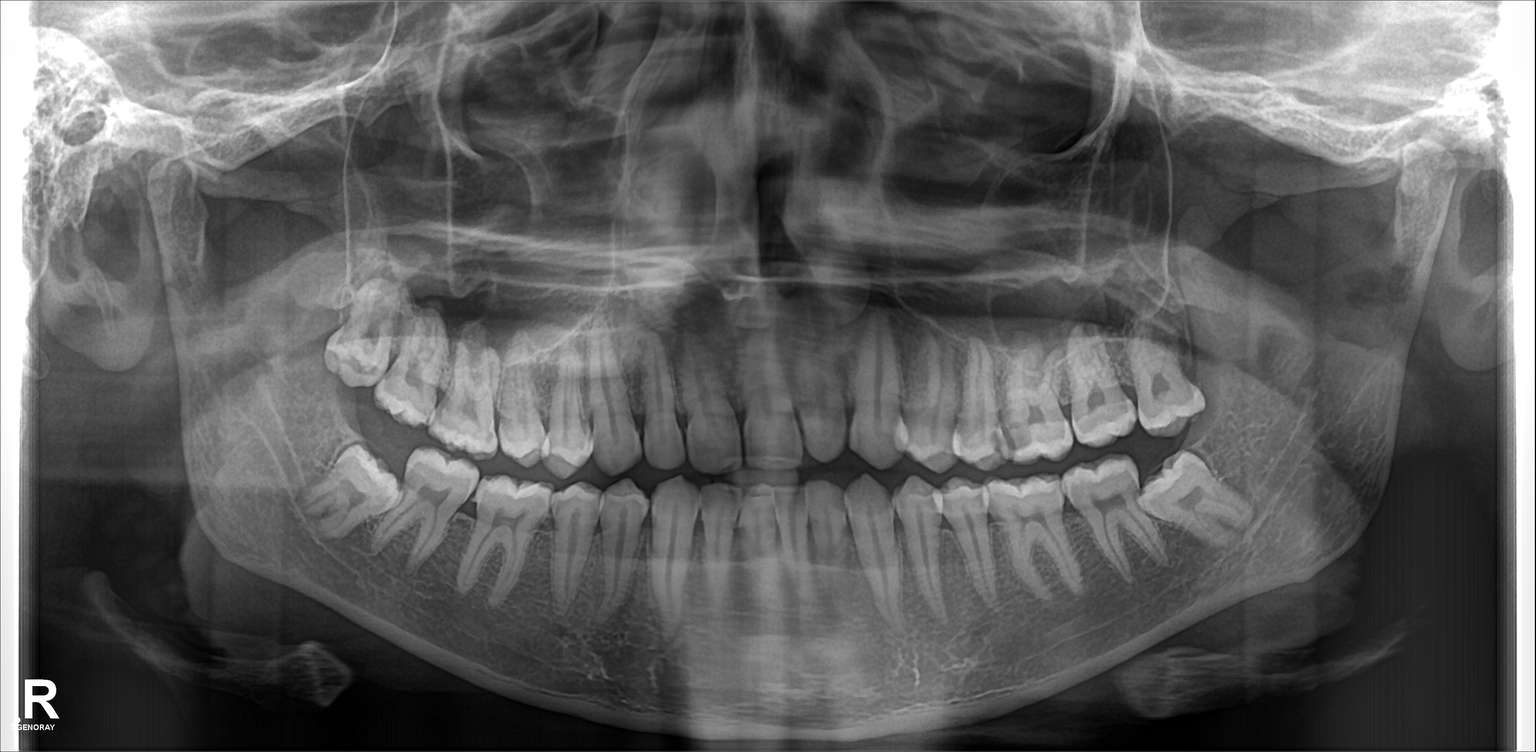Impacted Third Molar: (1155, 460, 1248, 541), (304, 458, 404, 529), (328, 292, 390, 387)
